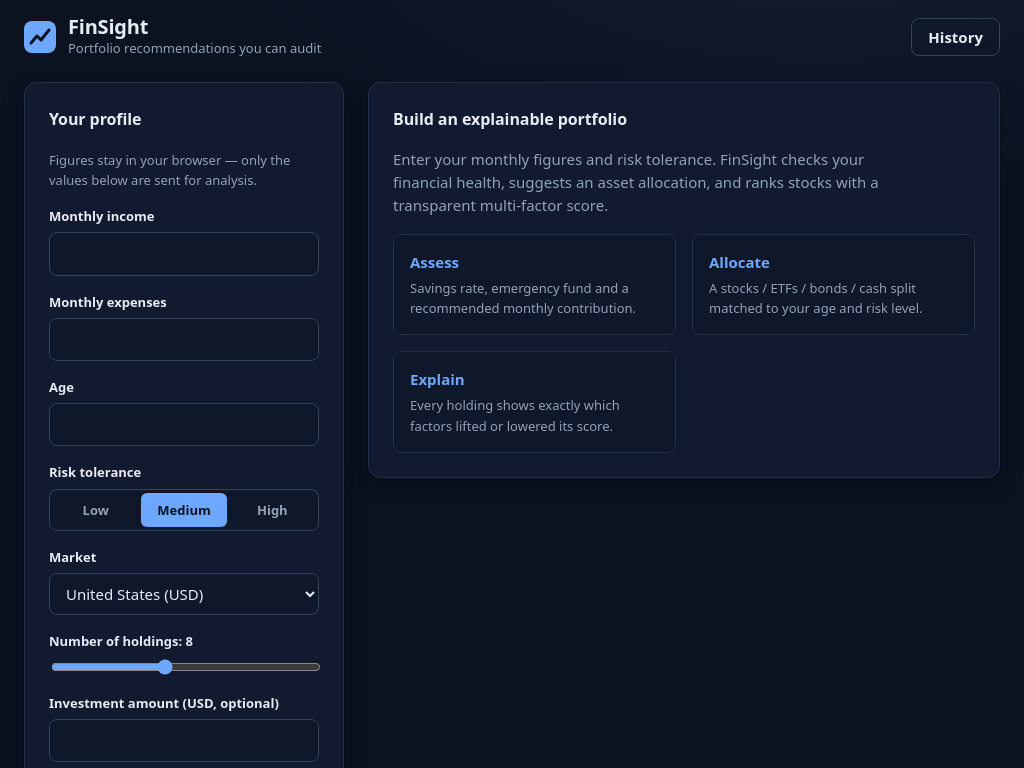
App › lists recent analyses in the history drawer and closes with Escape
The image size is (1024, 768).
Click the button "History" at (956, 37), box [911,18,1000,56]
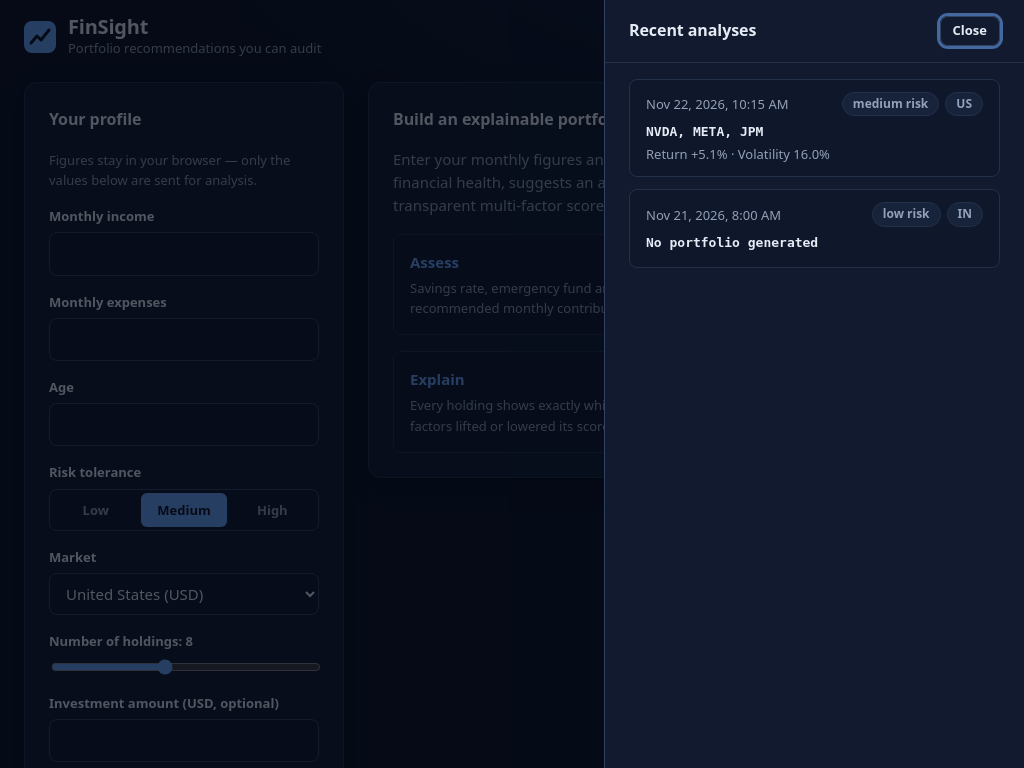
Expected: the text "NVDA, META, JPM" is shown, [646,124,763,139]
Expected: the text "No portfolio generated" is shown, [646,235,818,250]
Press Escape
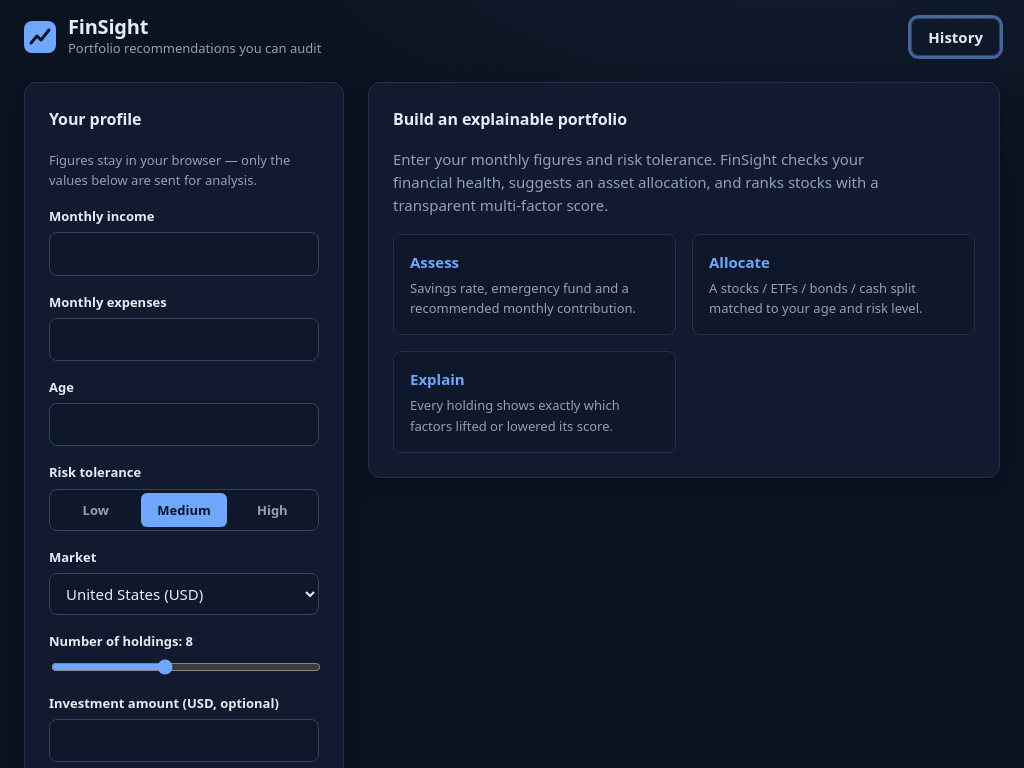
Expected: the dialog is gone
